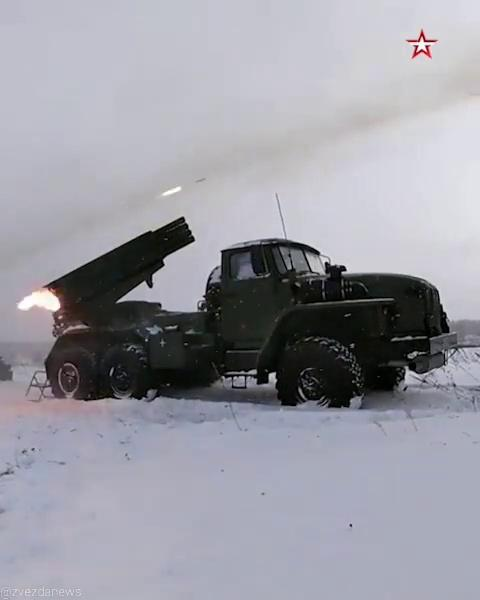MIL_SAM_TEL: (40, 214, 455, 406)
